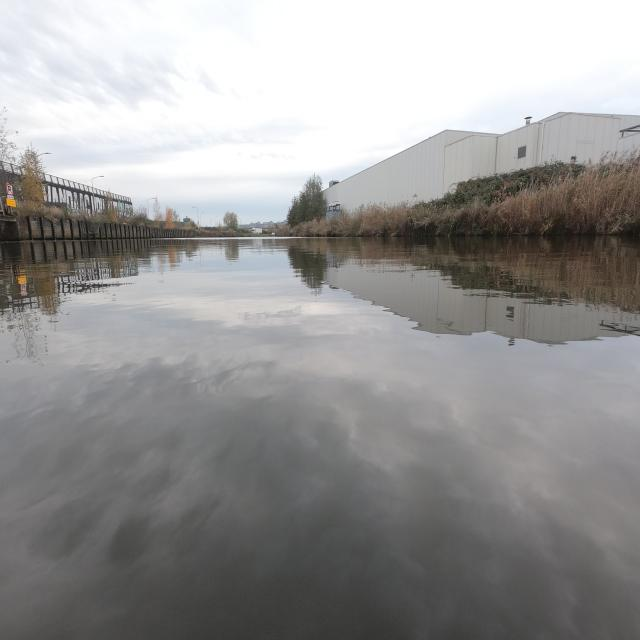reed: (295, 149, 639, 235)
sky: (2, 2, 639, 221)
wall: (16, 216, 177, 241), (0, 220, 17, 241)
water: (1, 230, 639, 639)
